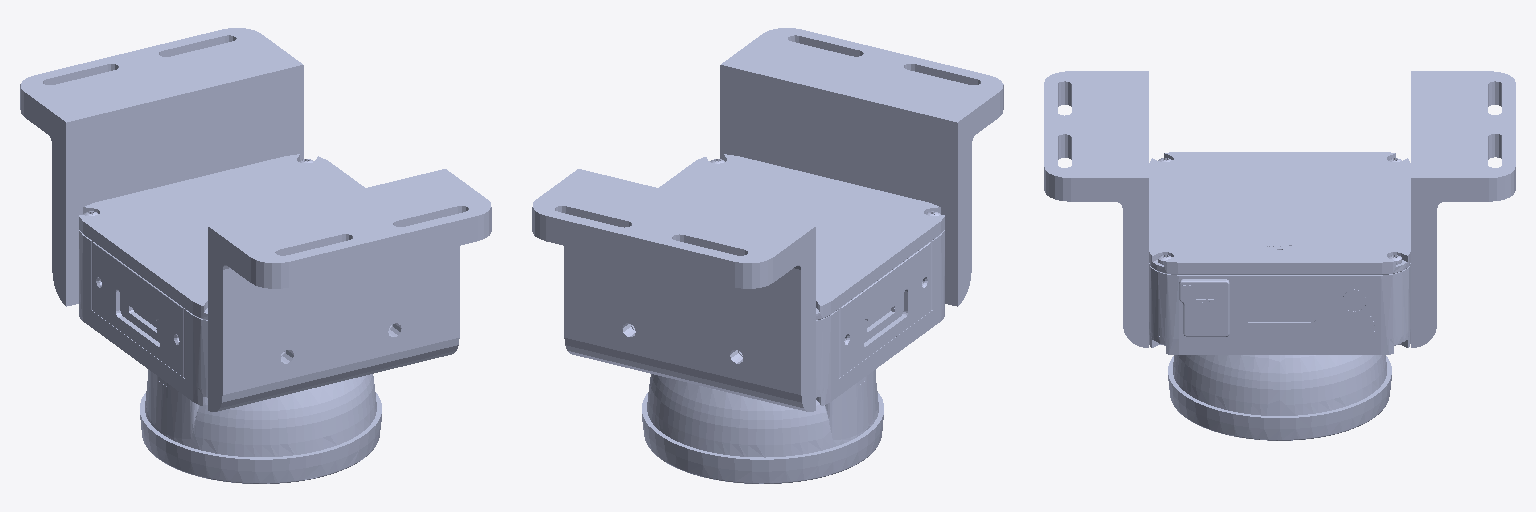
robot.urdf — mobile_base_assembly new real frames for crust with realsense:
<?xml version="1.0" encoding="utf-8"?>
<!-- This URDF was automatically created by SolidWorks to URDF Exporter! Originally created by [author] ([email redacted]) 
     Commit Version: 1.6.0-4-g7f85cfe  Build Version: 1.6.7995.38578
     For more information, please see http://wiki.ros.org/sw_urdf_exporter -->
<robot
  name="mobile_base_assembly new real frames for crust with realsense">
  <link
    name="base_link">
    <inertial>
      <origin
        xyz="-0.188726144033007 0.00247544569007708 -0.00331828982085092"
        rpy="0 0 0" />
      <mass
        value="7.25669374827585" />
      <inertia
        ixx="0.0218763762344693"
        ixy="-2.77322922063158E-06"
        ixz="0.000848533678871181"
        iyy="0.0458578206362989"
        iyz="-3.27411439344339E-05"
        izz="0.0543772495469691" />
    </inertial>
    <visual>
      <origin
        xyz="0 0 0"
        rpy="0 0 0" />
      <geometry>
        <mesh
          filename="package://mobile_base_assembly new real frames for crust with realsense/meshes/base_link.STL" />
      </geometry>
      <material
        name="">
        <color
          rgba="0 0 0 1" />
      </material>
    </visual>
    <collision>
      <origin
        xyz="0 0 0"
        rpy="0 0 0" />
      <geometry>
        <mesh
          filename="package://mobile_base_assembly new real frames for crust with realsense/meshes/base_link.STL" />
      </geometry>
    </collision>
  </link>
  <link
    name="left_wheel">
    <inertial>
      <origin
        xyz="0 0 -1.3878E-17"
        rpy="0 0 0" />
      <mass
        value="4.4634" />
      <inertia
        ixx="0.021438"
        ixy="9.2708E-19"
        ixz="7.9798E-20"
        iyy="0.021438"
        iyz="-1.44E-20"
        izz="0.037571" />
    </inertial>
    <visual>
      <origin
        xyz="0 0 0"
        rpy="0 0 0" />
      <geometry>
        <mesh
          filename="package://mobile_base_assembly new real frames for crust with realsense/meshes/left_wheel.STL" />
      </geometry>
      <material
        name="">
        <color
          rgba="0.79216 0.81961 0.93333 1" />
      </material>
    </visual>
    <collision>
      <origin
        xyz="0 0 0"
        rpy="0 0 0" />
      <geometry>
        <mesh
          filename="package://mobile_base_assembly new real frames for crust with realsense/meshes/left_wheel.STL" />
      </geometry>
    </collision>
  </link>
  <joint
    name="left_wheel_joint"
    type="fixed">
    <origin
      xyz="0 0.137 0"
      rpy="-1.5708 0 0" />
    <parent
      link="base_link" />
    <child
      link="left_wheel" />
    <axis
      xyz="0 0 0" />
  </joint>
  <link
    name="right_wheel">
    <inertial>
      <origin
        xyz="-1.3878E-17 -5.5511E-17 2.7756E-17"
        rpy="0 0 0" />
      <mass
        value="4.4634" />
      <inertia
        ixx="0.021438"
        ixy="-2.9043E-19"
        ixz="-5.2601E-19"
        iyy="0.021438"
        iyz="5.9106E-20"
        izz="0.037571" />
    </inertial>
    <visual>
      <origin
        xyz="0 0 0"
        rpy="0 0 0" />
      <geometry>
        <mesh
          filename="package://mobile_base_assembly new real frames for crust with realsense/meshes/right_wheel.STL" />
      </geometry>
      <material
        name="">
        <color
          rgba="0.79216 0.81961 0.93333 1" />
      </material>
    </visual>
    <collision>
      <origin
        xyz="0 0 0"
        rpy="0 0 0" />
      <geometry>
        <mesh
          filename="package://mobile_base_assembly new real frames for crust with realsense/meshes/right_wheel.STL" />
      </geometry>
    </collision>
  </link>
  <joint
    name="right_wheel_joint"
    type="fixed">
    <origin
      xyz="0 -0.132 0"
      rpy="1.5708 0 0" />
    <parent
      link="base_link" />
    <child
      link="right_wheel" />
    <axis
      xyz="0 0 0" />
  </joint>
  <link
    name="camera">
    <inertial>
      <origin
        xyz="-0.034514 -0.0074492 -1.0753E-06"
        rpy="0 0 0" />
      <mass
        value="0.36984" />
      <inertia
        ixx="0.00059501"
        ixy="-1.1301E-05"
        ixz="-1.7395E-08"
        iyy="0.00025617"
        iyz="-2.6804E-08"
        izz="0.0004881" />
    </inertial>
    <visual>
      <origin
        xyz="0 0 0"
        rpy="0 0 0" />
      <geometry>
        <mesh
          filename="package://mobile_base_assembly new real frames for crust with realsense/meshes/camera.STL" />
      </geometry>
      <material
        name="">
        <color
          rgba="0.79216 0.81961 0.93333 1" />
      </material>
    </visual>
    <collision>
      <origin
        xyz="0 0 0"
        rpy="0 0 0" />
      <geometry>
        <mesh
          filename="package://mobile_base_assembly new real frames for crust with realsense/meshes/camera.STL" />
      </geometry>
    </collision>
  </link>
  <joint
    name="camera_joint"
    type="fixed">
    <origin
      xyz="0.27022 0.0022996 0.04328"
      rpy="3.4262E-05 0.7854 4.8454E-05" />
    <parent
      link="base_link" />
    <child
      link="camera" />
    <axis
      xyz="0 0 0" />
  </joint>
  <link
    name="scan">
    <inertial>
      <origin
        xyz="-0.00053785 3.243E-05 -0.03041"
        rpy="0 0 0" />
      <mass
        value="0.77573" />
      <inertia
        ixx="0.00081322"
        ixy="-1.3264E-06"
        ixz="1.5954E-06"
        iyy="0.00093772"
        iyz="3.8009E-07"
        izz="0.00097173" />
    </inertial>
    <visual>
      <origin
        xyz="0 0 0"
        rpy="0 0 0" />
      <geometry>
        <mesh
          filename="package://mobile_base_assembly new real frames for crust with realsense/meshes/scan.STL" />
      </geometry>
      <material
        name="">
        <color
          rgba="0.79216 0.81961 0.93333 1" />
      </material>
    </visual>
    <collision>
      <origin
        xyz="0 0 0"
        rpy="0 0 0" />
      <geometry>
        <mesh
          filename="package://mobile_base_assembly new real frames for crust with realsense/meshes/scan.STL" />
      </geometry>
    </collision>
  </link>
  <joint
    name="scan_joint"
    type="fixed">
    <origin
      xyz="0.13302 0.0024966 -0.025212"
      rpy="-3.1416 0 0" />
    <parent
      link="base_link" />
    <child
      link="scan" />
    <axis
      xyz="0 0 0" />
  </joint>
  <link
    name="crust_base_link1">
    <inertial>
      <origin
        xyz="0.076907 3.3627E-08 0.016178"
        rpy="0 0 0" />
      <mass
        value="0.064315" />
      <inertia
        ixx="4.4137E-05"
        ixy="7.18E-11"
        ixz="-2.1173E-05"
        iyy="5.6592E-05"
        iyz="1.1856E-11"
        izz="7.3666E-05" />
    </inertial>
    <visual>
      <origin
        xyz="0 0 0"
        rpy="0 0 0" />
      <geometry>
        <mesh
          filename="package://mobile_base_assembly new real frames for crust with realsense/meshes/crust_base_link1.STL" />
      </geometry>
      <material
        name="">
        <color
          rgba="0.79216 0.81961 0.93333 1" />
      </material>
    </visual>
    <collision>
      <origin
        xyz="0 0 0"
        rpy="0 0 0" />
      <geometry>
        <mesh
          filename="package://mobile_base_assembly new real frames for crust with realsense/meshes/crust_base_link1.STL" />
      </geometry>
    </collision>
  </link>
  <joint
    name="crust_base_joint1"
    type="fixed">
    <origin
      xyz="0.12075 0.0025 0.066"
      rpy="0 0 0" />
    <parent
      link="base_link" />
    <child
      link="crust_base_link1" />
    <axis
      xyz="0 0 0" />
  </joint>
</robot>

--- Render facts (derived) ---
Views: 3 orthographic renders of the robot side by side, from view 1: azimuth 30°, elevation 25°; view 2: azimuth 150°, elevation 25°; view 3: azimuth 270°, elevation 25°.
Model mobile_base_assembly new real frames for crust with realsense with 6 links and 5 joints (5 fixed), rooted at base_link, posed all joints at 0.
Visible links, largest first — view 1: scan; view 2: scan; view 3: scan.
Boxes of the visible links, x1=… form: scan: x1=20, y1=28, x2=491, y2=483; scan: x1=532, y1=28, x2=1003, y2=483; scan: x1=1044, y1=71, x2=1515, y2=440.
Bounding box of the posed robot: 0.1027 × 0.1806 × 0.1142 m (x, y, z).
1 mesh visuals loaded from 6 distinct referenced files (1 binary STL); not drawn: 5 (reference not matched to a file when rendering).